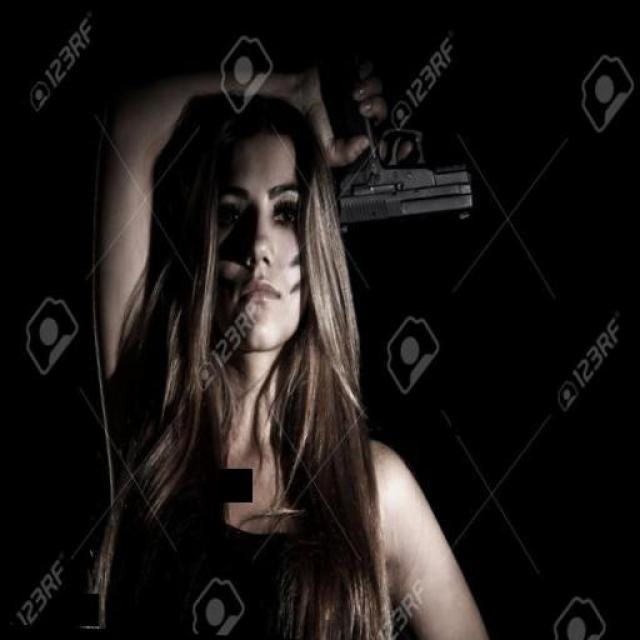gun: (318, 101, 478, 230)
